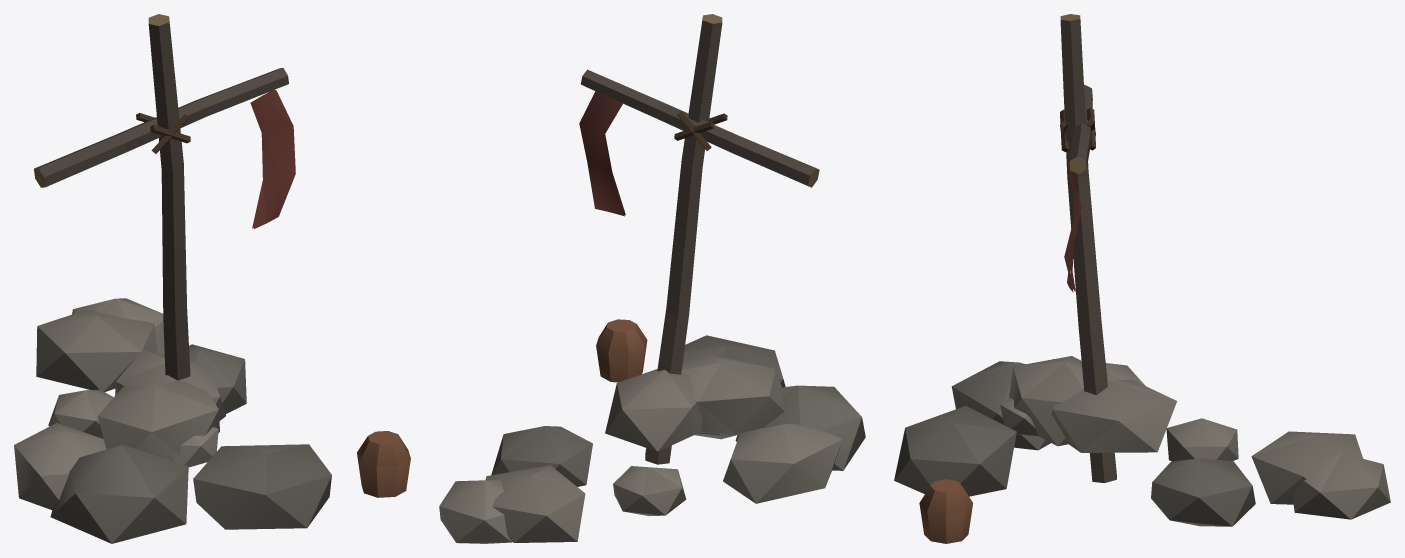
Rendered from cruz_camino.glb.
The picture shows the model from 3 angles, left to right: view 1: azimuth 30°, elevation 25°; view 2: azimuth 150°, elevation 25°; view 3: azimuth 270°, elevation 25°; orthographic projection. The views are drawn at different scales.
Visible parts, largest first — view 1: CruzDelCamino; view 2: CruzDelCamino; view 3: CruzDelCamino.
Boxes of the visible parts, x1,y1,x2,y2 form: CruzDelCamino: (14, 14, 410, 543); CruzDelCamino: (439, 14, 865, 543); CruzDelCamino: (894, 14, 1390, 543).
Size of what is drawn, in the model's own units: 1.1 by 1.6 by 1.57.
